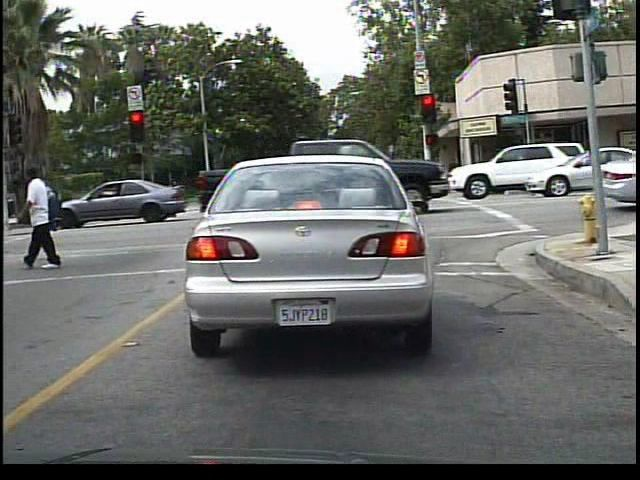person: (19, 164, 74, 272)
